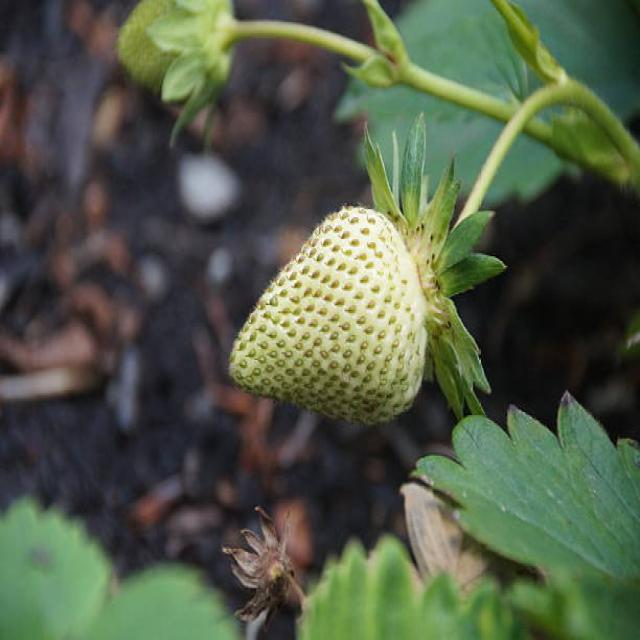Healthy Fruit: (231, 208, 427, 426)
